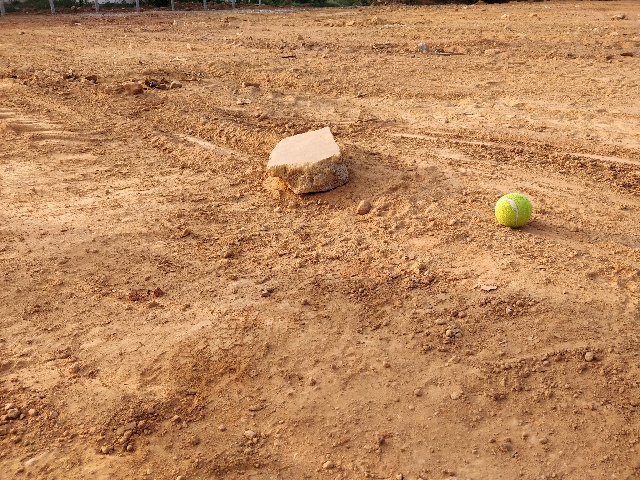ball: (491, 192, 537, 231)
